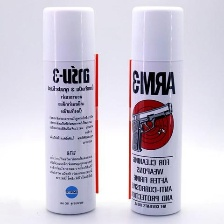aerosol_cans: (125, 4, 185, 219), (40, 3, 99, 219)
